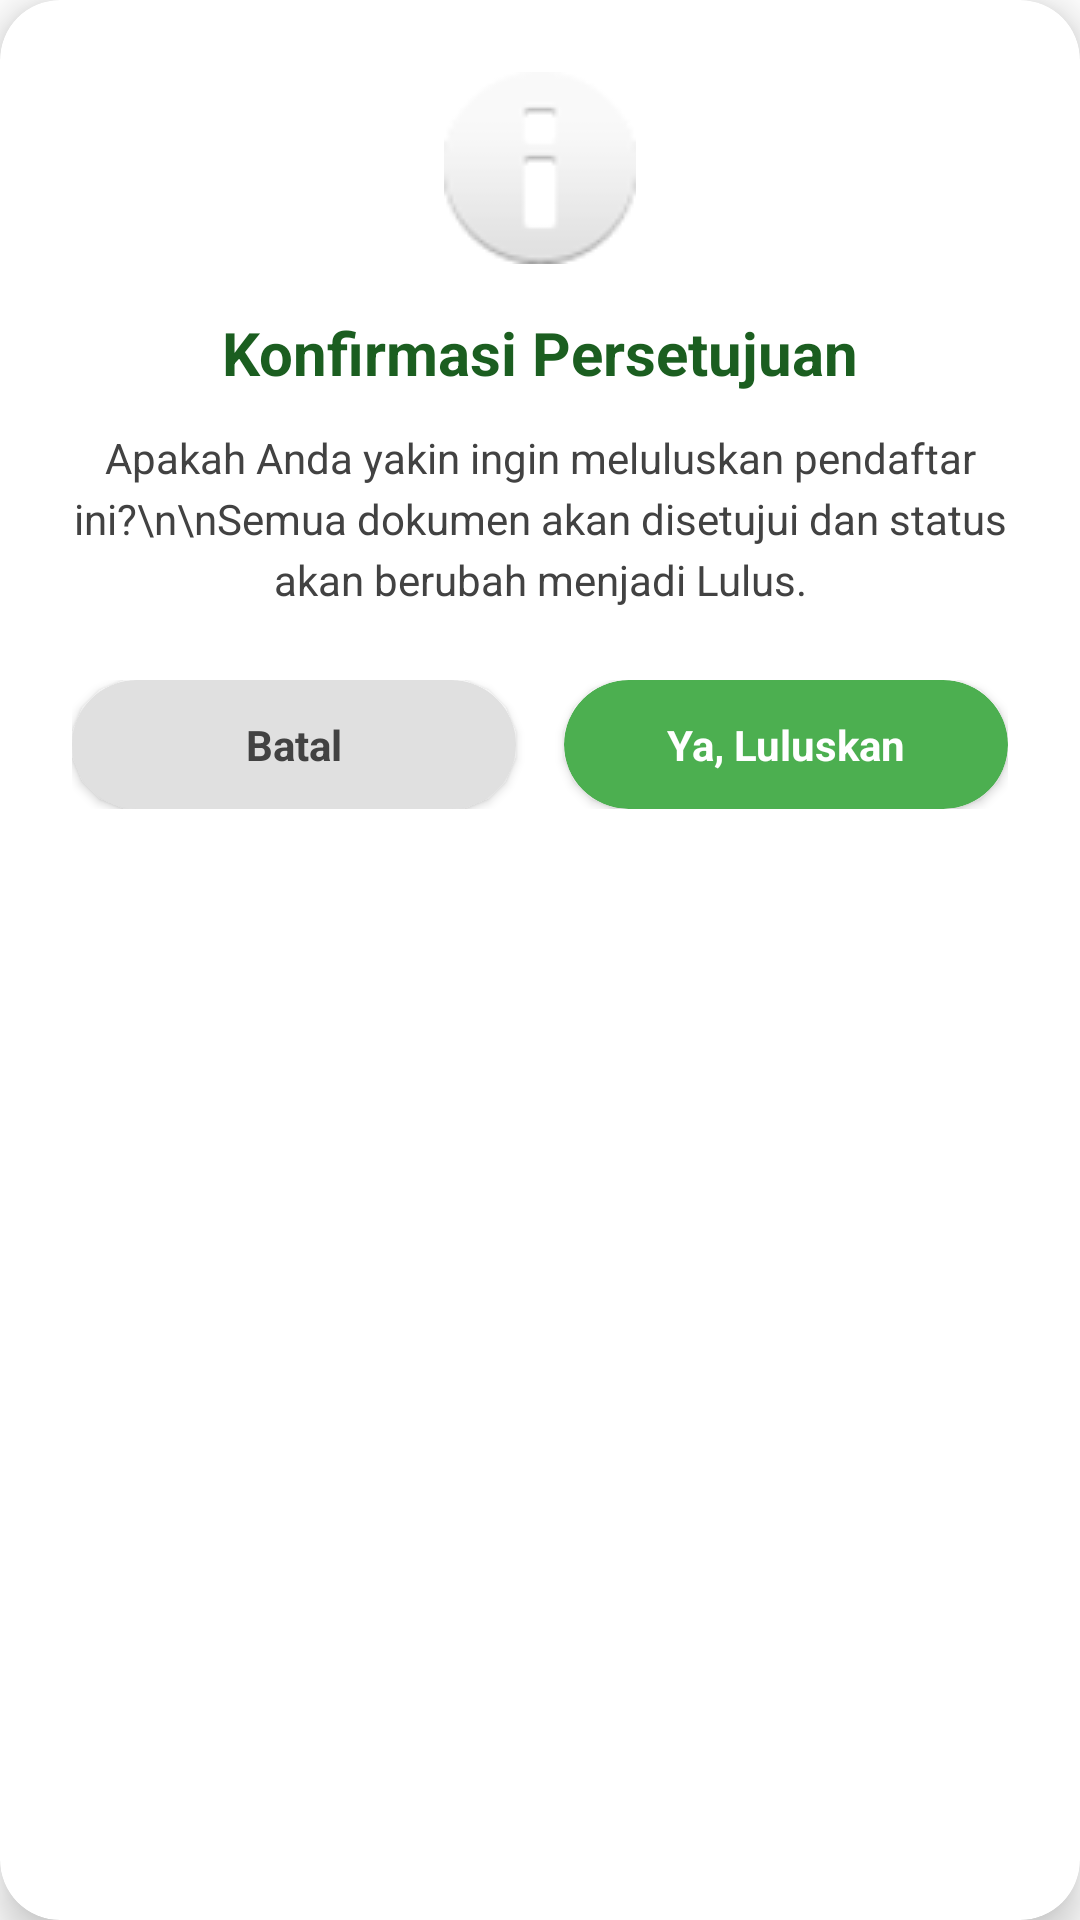

Icons on this 1080 × 1920 Android screen, each with the point to tap as (x=x, y=y):
Dialog Icon: (x=540, y=185)
